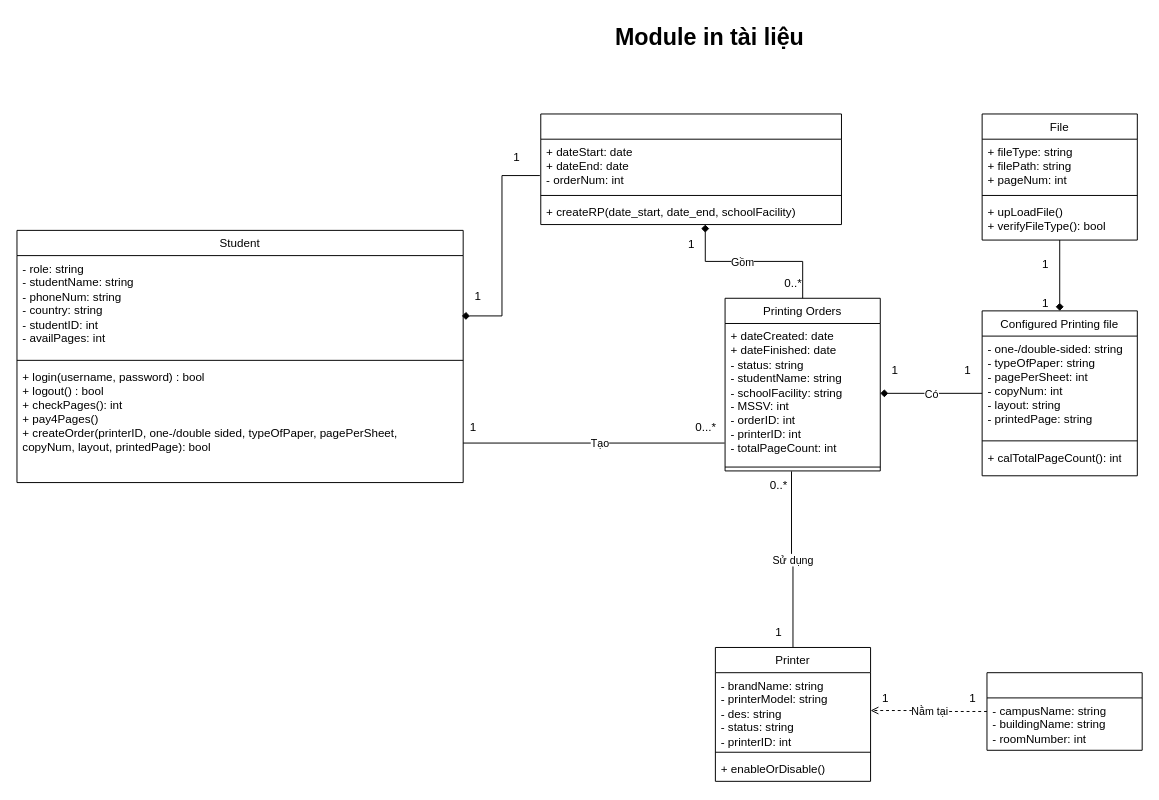
The diagram is 1159 pixels wide and 800 high, and some of its shapes have lost their labels. The shapes that lost their labels are listed below. From the top down, each one's box as (x1, y1, x2, y2) in pixels, then its label:
(540, 113, 841, 225): Lịch sử in
(986, 672, 1142, 750): Printer location
